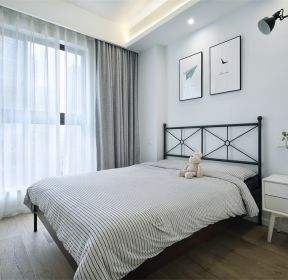床: (24, 166, 255, 272)
灯: (256, 7, 287, 36), (186, 18, 196, 28)
